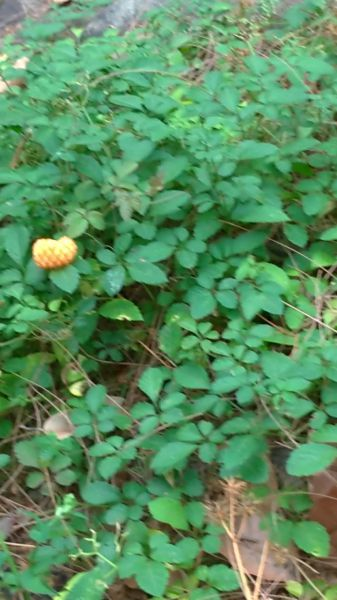eggs: (26, 230, 80, 274)
